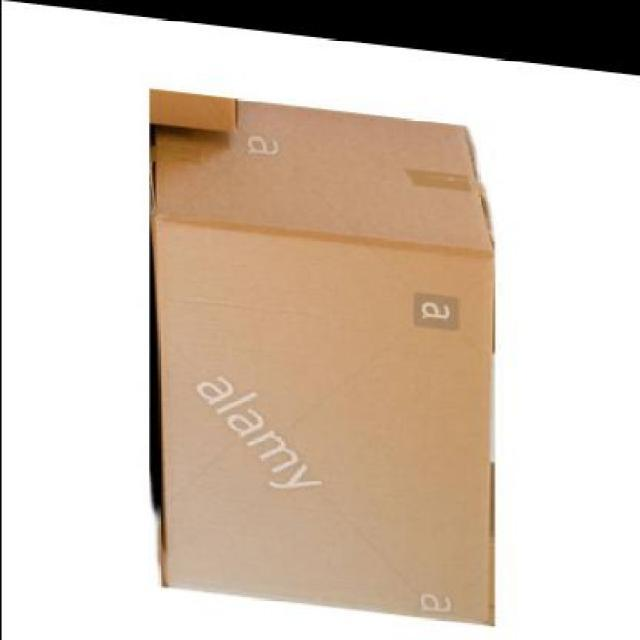box: (158, 85, 494, 610)
